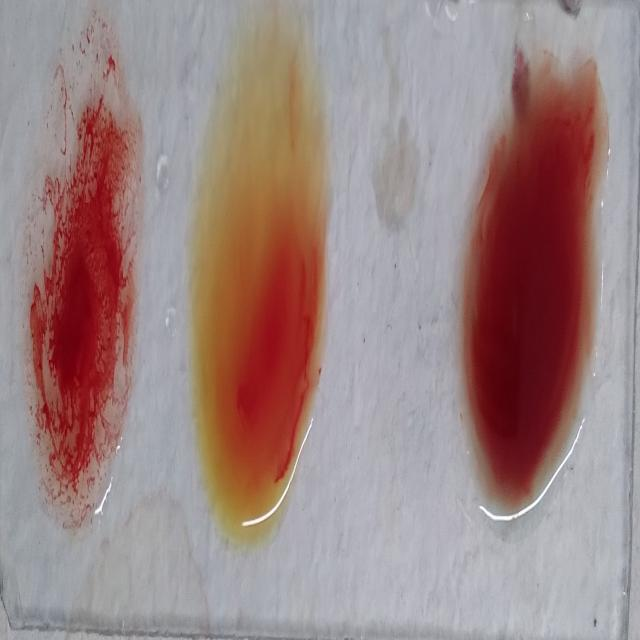D: (27, 24, 135, 522)
